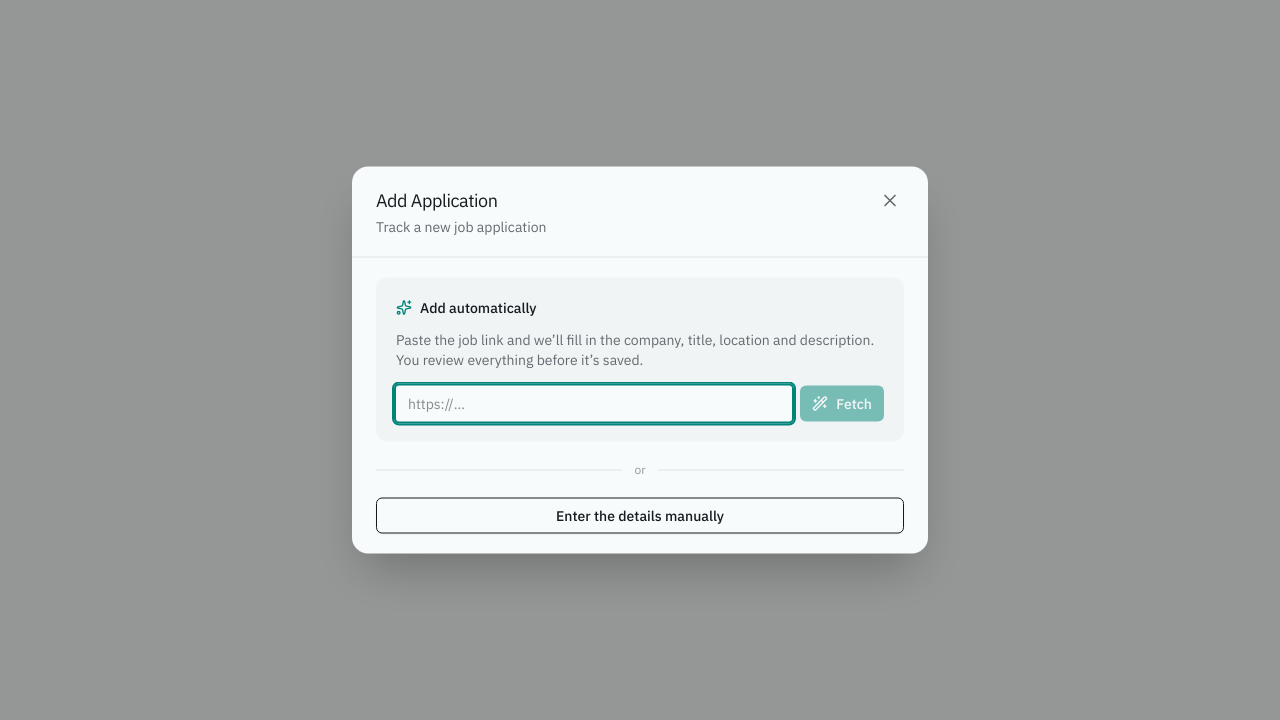
Test: adding a job automatically › says where the fields came from, so they get the right trust
Type "https://example.com/job" into the field named "Job URL" at (594, 404), box [396, 386, 792, 422]
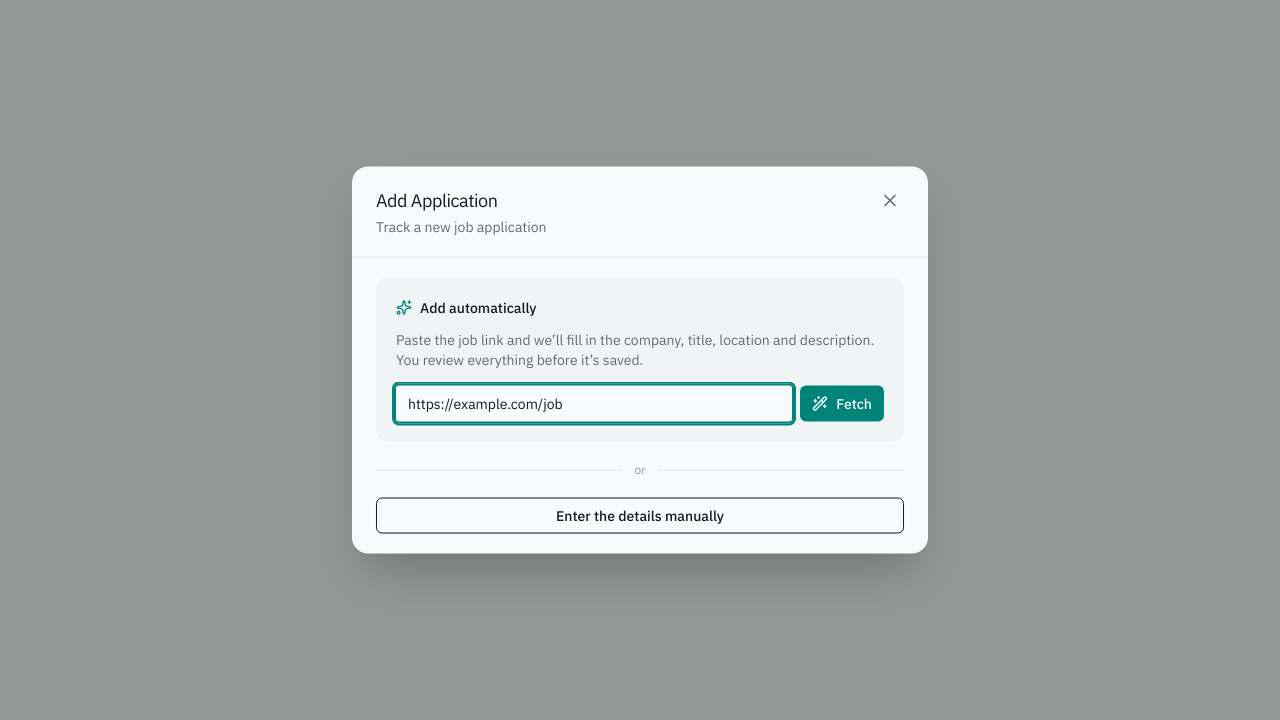
Click the button "Fetch" at (842, 404), box [800, 386, 884, 422]
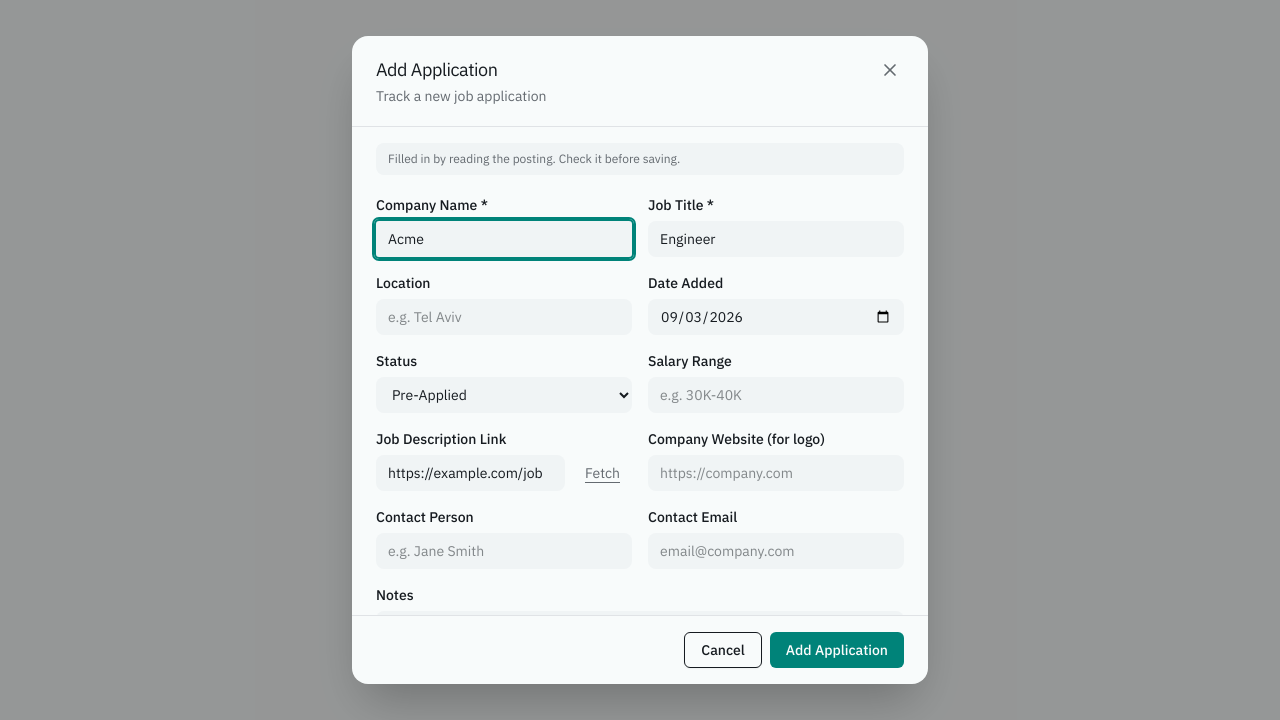
Now the text "Filled in by reading the posting. Check it before saving." is shown, box [376, 143, 904, 175]
